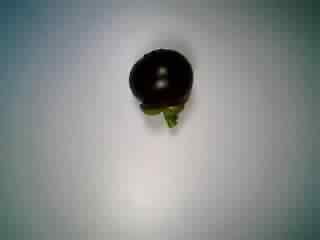mangosteen: (125, 46, 191, 128)
